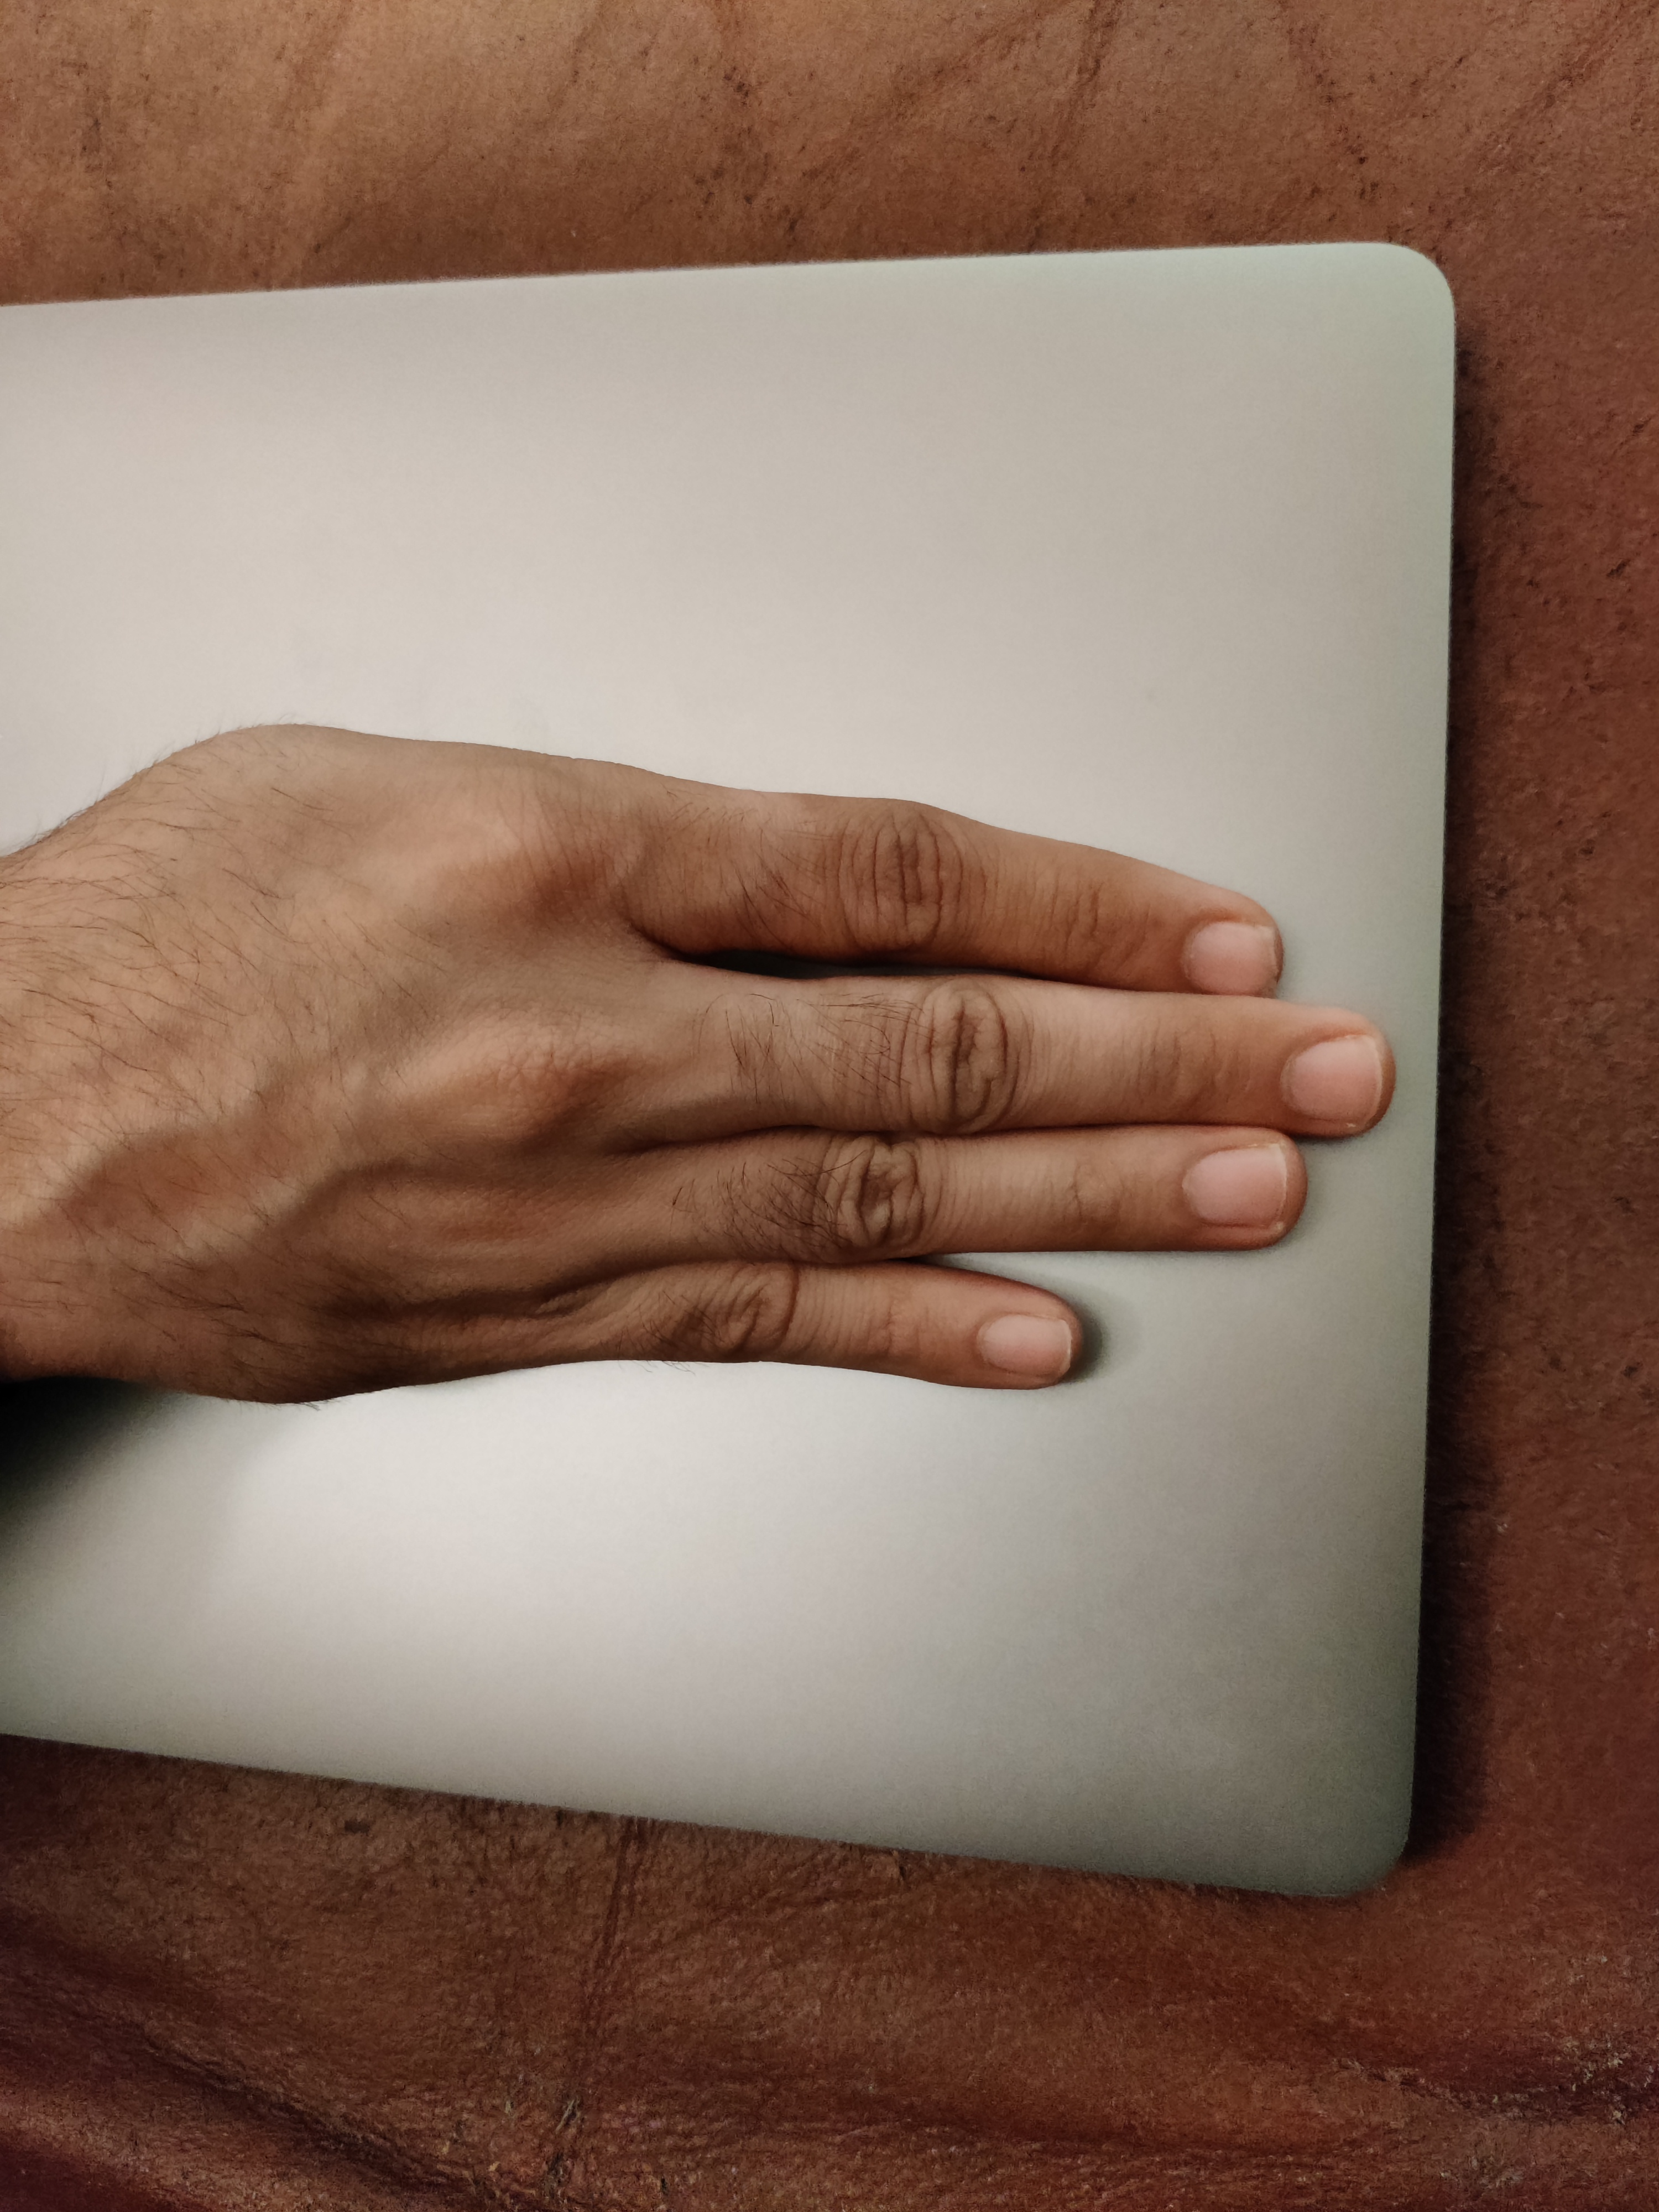left: (5, 521, 1485, 1601)
